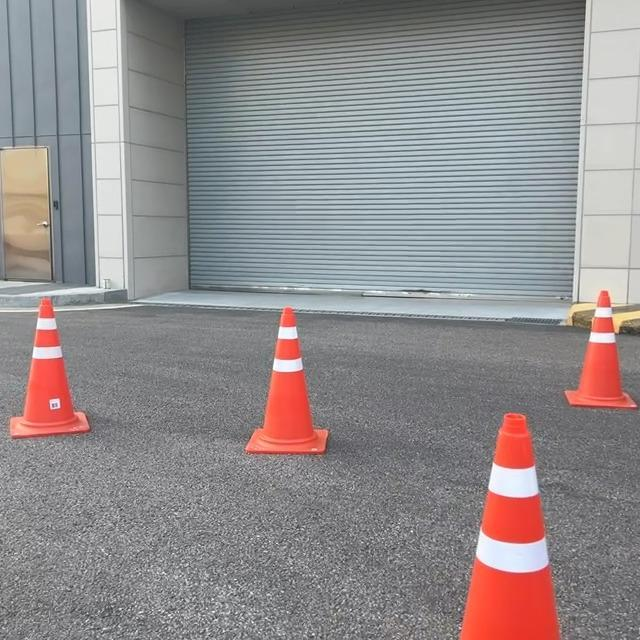fallen_object: (409, 386, 585, 640), (179, 273, 341, 486), (0, 277, 111, 471), (556, 255, 640, 417)
